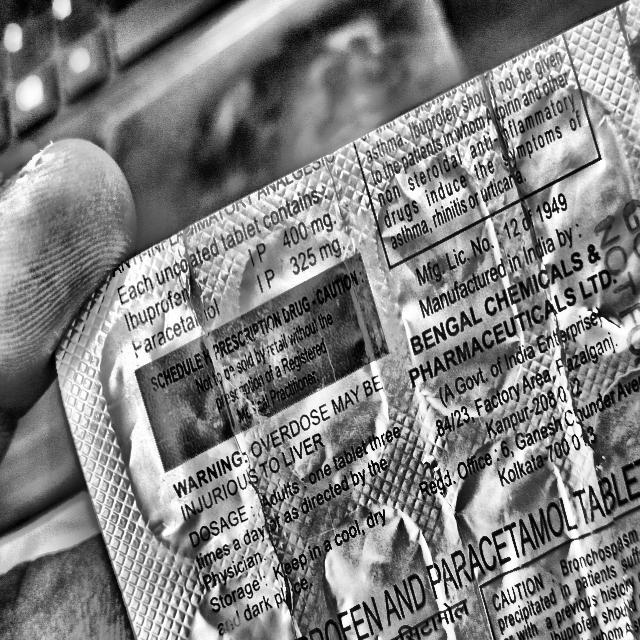IBUPROFEN AND PARACETAMOL TABLETS: (272, 446, 640, 640)
